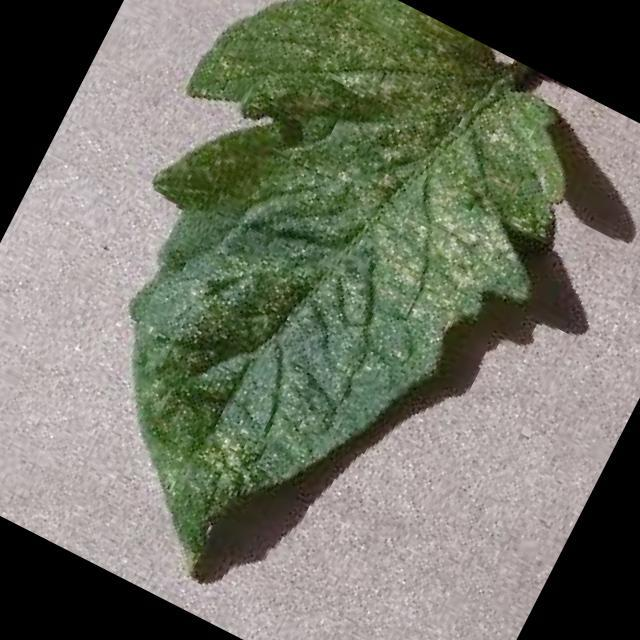Tomato spider mites leaf: (0, 0, 618, 640)
